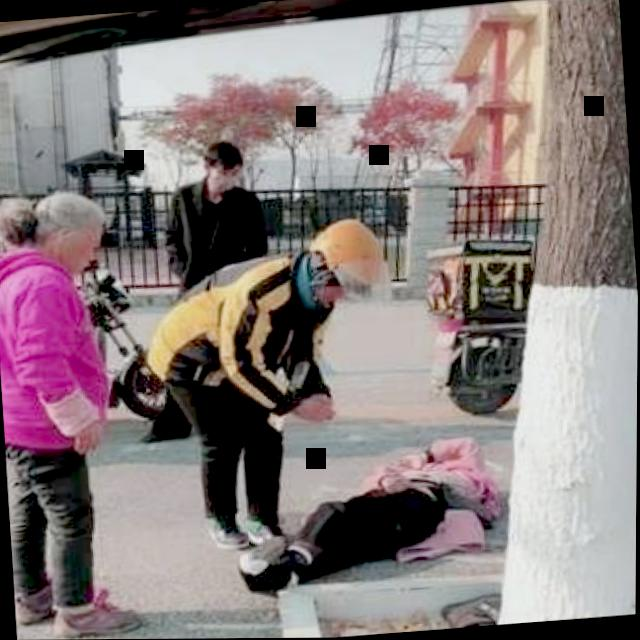Fall-Detected: (223, 412, 510, 600)
